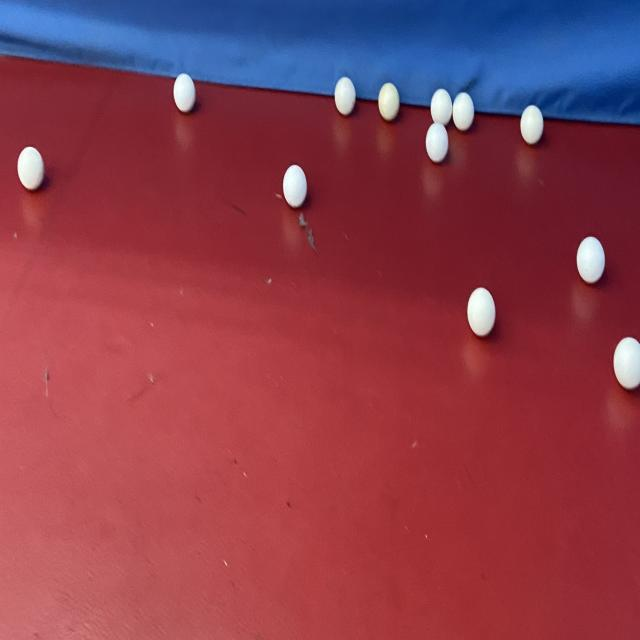ping-pong-ball: (610, 332, 640, 397), (466, 284, 498, 338), (574, 234, 606, 288), (15, 142, 48, 193), (280, 160, 310, 212), (424, 119, 451, 167), (171, 69, 199, 115), (332, 72, 358, 121), (374, 81, 402, 125), (519, 101, 545, 148), (451, 89, 477, 133), (430, 82, 452, 127)
